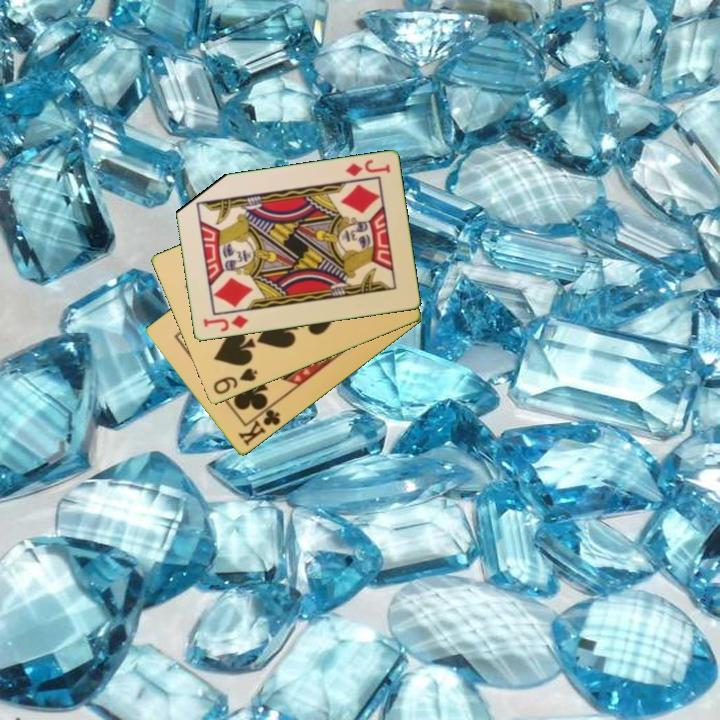9s: (210, 365, 260, 398)
Jd: (200, 312, 251, 335), (342, 157, 393, 179)
Kc: (234, 401, 283, 449)
